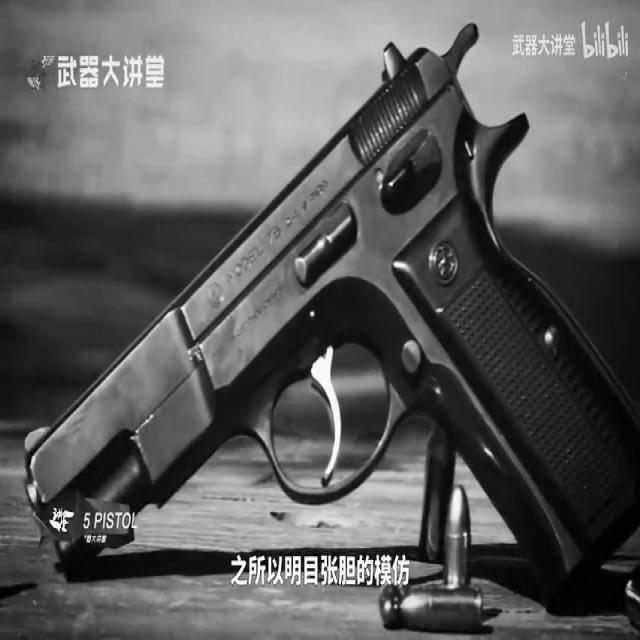Hand-Gun: (25, 32, 640, 619)
